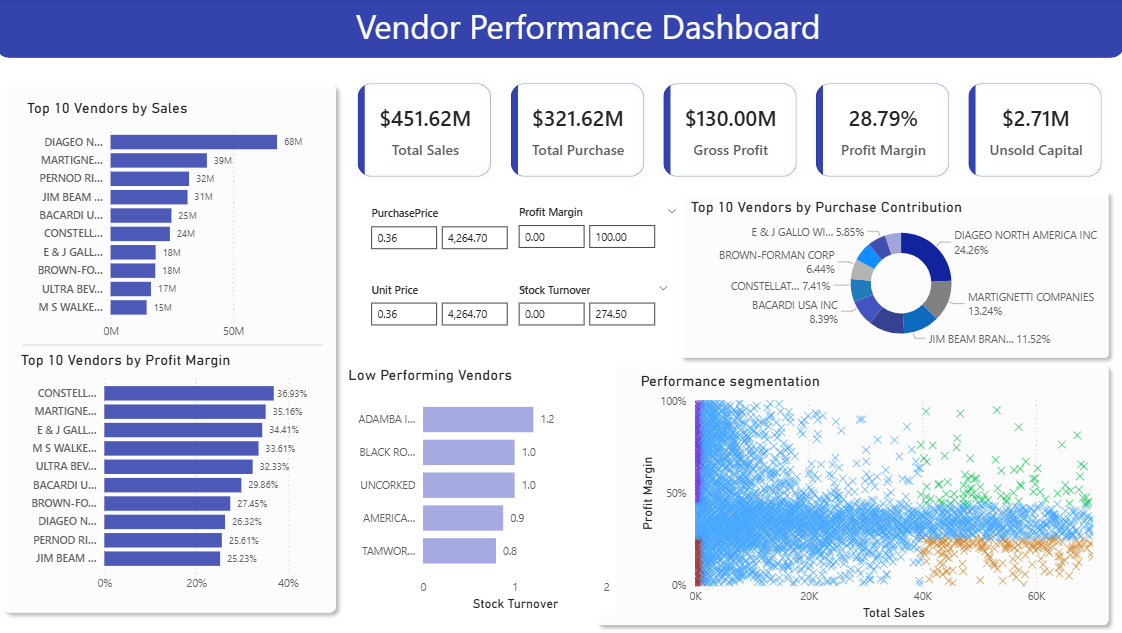

The page's visual inventory and layout, read from the dashboard file:
{"tool":"powerbi","page":{"name":"Page 1","canvas":[1280,720],"ordinal":0},"visuals":[{"type":"shape","box":[672.7,406.5,597.7,313],"z":0},{"type":"shape","box":[767.6,209.6,502.8,206.8],"z":1000},{"type":"shape","box":[0,88.2,395.1,617.5],"z":2000},{"type":"cardVisual","fields":{"Data":["Sum(vendor_performance.Total_sales_dollars)","Sum(vendor_performance.Total_purchase_dollars)","Sum(vendor_performance.GrossProfit)","vendor_performance.ProfitMargin","Sum(vendor_inventory_fact.UnsoldInventoryValue)"]},"box":[395.1,80.7,875.2,138.8],"z":3000},{"type":"shape","box":[0,1.4,1280.3,66.6],"z":4000},{"type":"textbox","box":[298.8,1.4,746.4,80.7],"z":5000},{"type":"barChart","title":"Top 10 Vendors by Sales","fields":{"Category":["vendor_inventory_fact.VendorName"],"Y":["vendor_inventory_fact.Total Sales"]},"box":[31.2,115.1,347,281.8],"z":6000},{"type":"shape","box":[31.2,232.7,339.9,321.5],"z":7000},{"type":"donutChart","title":"Top 10 Vendors by Purchase Contribution","fields":{"Category":["vendor_performance.VendorName"],"Y":["Sum(vendor_performance.PurchaseContribution)"]},"box":[783.2,226.6,487.2,174.2],"z":8000},{"type":"scatterChart","title":"Performance segmentation","fields":{"Category":["vendor_inventory_fact.Brand"],"Series":["vendor_inventory_fact.Performance Segment"],"Y":["vendor_inventory_fact.Profit Margin"],"X":["vendor_inventory_fact.Total Sales"]},"box":[726.5,423.5,532.5,286.1],"z":9000},{"type":"barChart","title":"Top 10 Vendors by Profit Margin","fields":{"Category":["vendor_inventory_fact.VendorName"],"Y":["vendor_inventory_fact.Profit Margin"]},"box":[24.1,399.8,347,281.8],"z":10000},{"type":"barChart","title":"Low Performing Vendors","fields":{"Y":["Sum(vendor_inventory_fact.StockTurnover)"],"Category":["vendor_inventory_fact.VendorName"]},"box":[395.1,416.4,308.7,283.2],"z":11000},{"type":"slicer","fields":{"Values":["vendor_inventory_fact.ProfitMargin"]},"box":[580.7,229.4,203.9,76.5],"z":12002},{"type":"slicer","fields":{"Values":["VendorPerformanceSummary.StockTurnover"]},"box":[580.7,317.2,194,73.6],"z":12003},{"type":"slicer","fields":{"Values":["vendor_inventory_fact.PurchasePrice"]},"box":[413.5,230.8,203.9,62.3],"z":12004},{"type":"slicer","fields":{"Values":["vendor_inventory_fact.UnitPrice"]},"box":[413.5,317.2,203.9,62.3],"z":12005}]}

Visuals, with their boxes in screenshot pixels (x1, y1, x2, y2), scaled from the page's 1280x720 canvas onto the 1122x633 screenshot:
shape: <box>590,357,1114,632</box>
shape: <box>673,184,1114,366</box>
shape: <box>0,78,346,620</box>
cardVisual - Sum(vendor_performance.Total_sales_dollars) x Sum(vendor_performance.Total_purchase_dollars): <box>346,71,1113,193</box>
shape: <box>0,1,1121,60</box>
textbox: <box>262,1,916,72</box>
"Top 10 Vendors by Sales" barChart: <box>27,101,332,349</box>
shape: <box>27,205,325,487</box>
"Top 10 Vendors by Purchase Contribution" donutChart: <box>687,199,1114,352</box>
"Performance segmentation" scatterChart: <box>637,372,1104,624</box>
"Top 10 Vendors by Profit Margin" barChart: <box>21,351,325,599</box>
"Low Performing Vendors" barChart: <box>346,366,617,615</box>
slicer - vendor_inventory_fact.ProfitMargin: <box>509,202,688,269</box>
slicer - VendorPerformanceSummary.StockTurnover: <box>509,279,679,344</box>
slicer - vendor_inventory_fact.PurchasePrice: <box>362,203,541,258</box>
slicer - vendor_inventory_fact.UnitPrice: <box>362,279,541,334</box>
